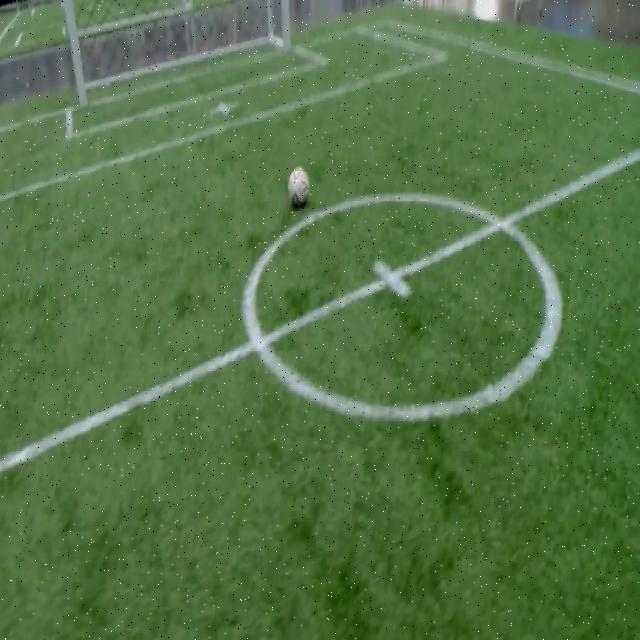ball: (288, 167, 310, 206)
goalpost: (277, 23, 293, 55), (77, 74, 89, 114)
